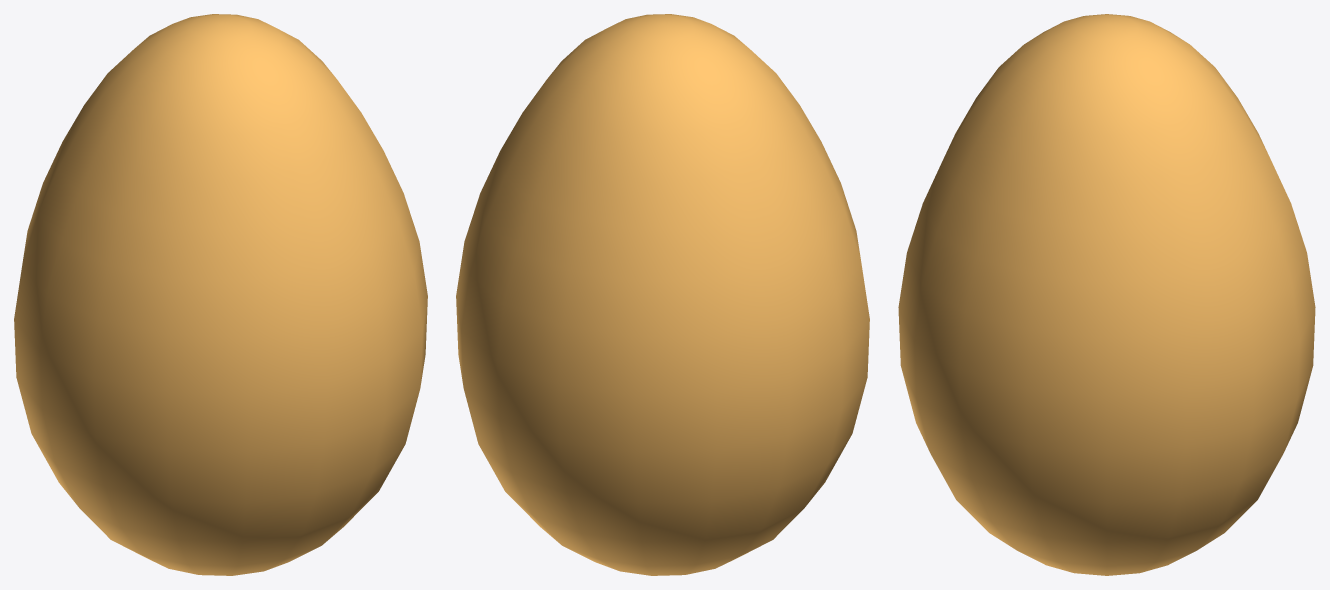
File: EggProjectile.glb
The picture shows the model from 3 angles, left to right: view 1: azimuth 30°, elevation 25°; view 2: azimuth 150°, elevation 25°; view 3: azimuth 270°, elevation 25°; orthographic projection.
Visible parts, largest first — view 1: Egg; view 2: Egg; view 3: Egg.
Part boxes in pixels (x1=…): Egg: x1=14, y1=14, x2=427, y2=575; Egg: x1=456, y1=14, x2=869, y2=575; Egg: x1=898, y1=14, x2=1315, y2=575.
Size of what is drawn, in the model's own units: 0.3754 by 0.5294 by 0.3754.
